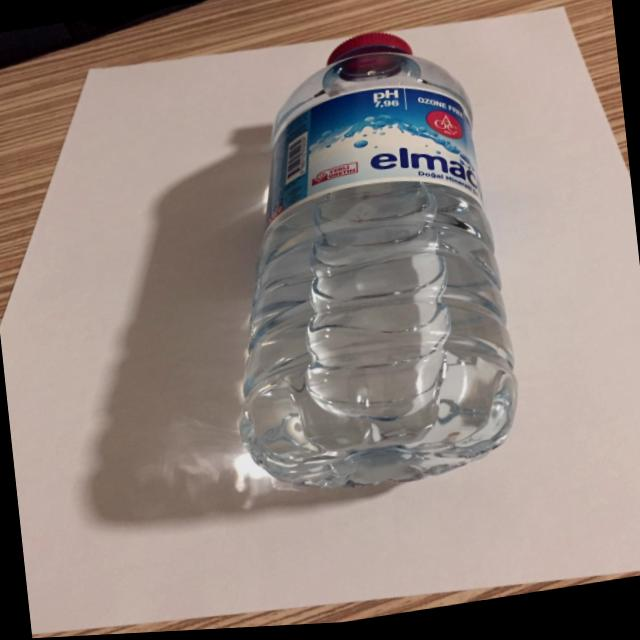anorganik: (213, 0, 544, 510)
